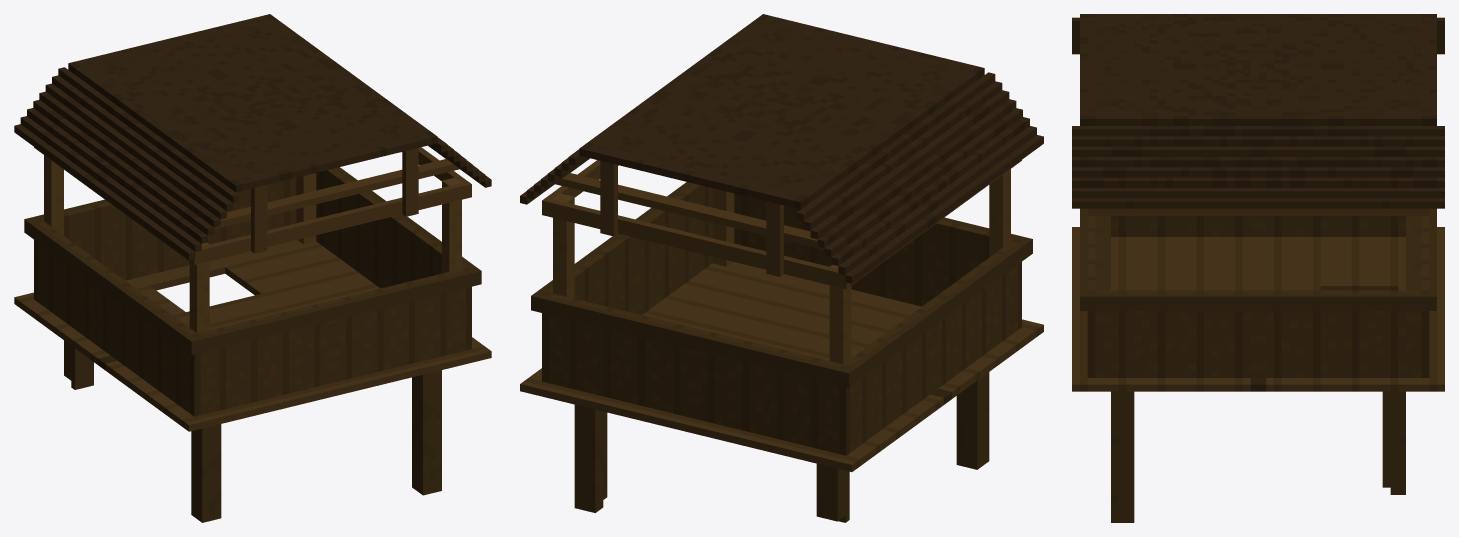
The model's file is SkeletonLair-4.obj.
3 views of the same model, side by side, from view 1: azimuth 30°, elevation 25°; view 2: azimuth 150°, elevation 25°; view 3: azimuth 270°, elevation 25° (orthographic). The views are drawn at different scales.
Size of the model in its own units: 4.8 by 5.6 by 4.8.
1 material, 1 textured.
